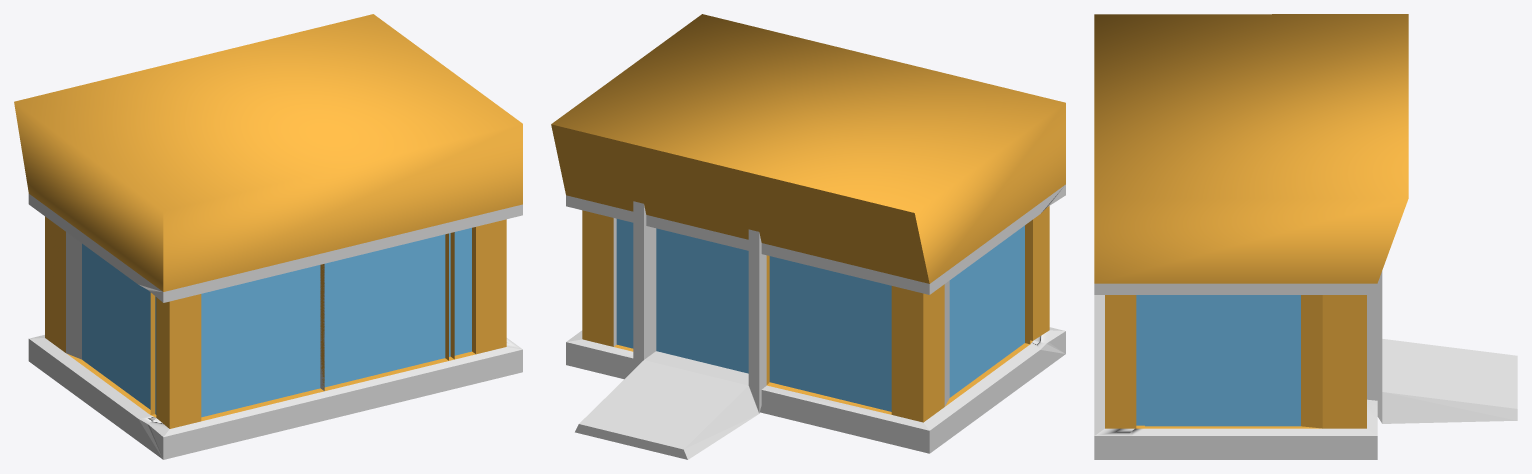
File: Shop3x2x2Orange.fbx
3 views of the same model, side by side, from view 1: azimuth 30°, elevation 25°; view 2: azimuth 150°, elevation 25°; view 3: azimuth 270°, elevation 25° (orthographic). The views are drawn at different scales.
Visible parts, largest first — view 1: Shop.002; view 2: Shop.002; view 3: Shop.002.
Part boxes in pixels (<box>): Shop.002: <box>14,14,522,459</box>; Shop.002: <box>551,14,1065,459</box>; Shop.002: <box>1094,14,1517,459</box>.
Size of the model in its own units: 3 by 1.98 by 2.91.
Materials: 1 (1 with a texture image).
